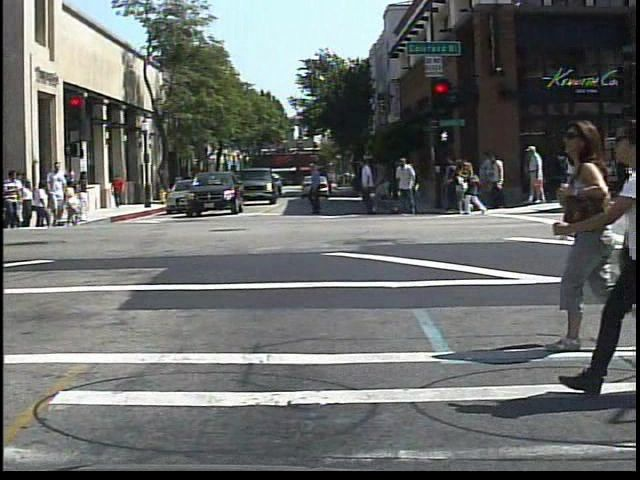person: (544, 107, 624, 353), (44, 163, 71, 230), (3, 167, 26, 231), (526, 144, 549, 206), (110, 174, 129, 211), (171, 169, 189, 199)
